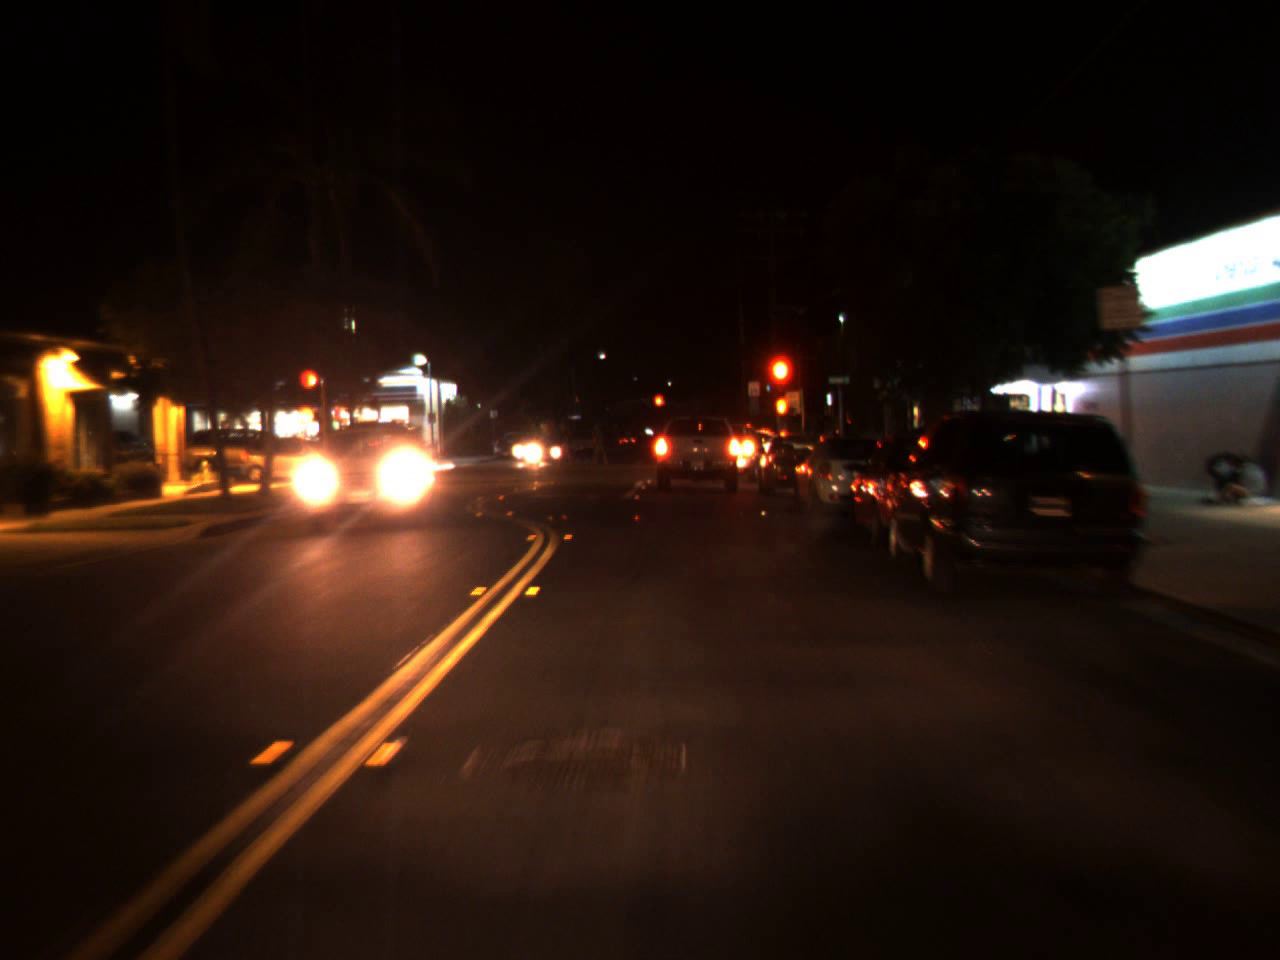stop: (762, 349, 798, 424), (298, 365, 322, 413), (652, 393, 665, 419)
